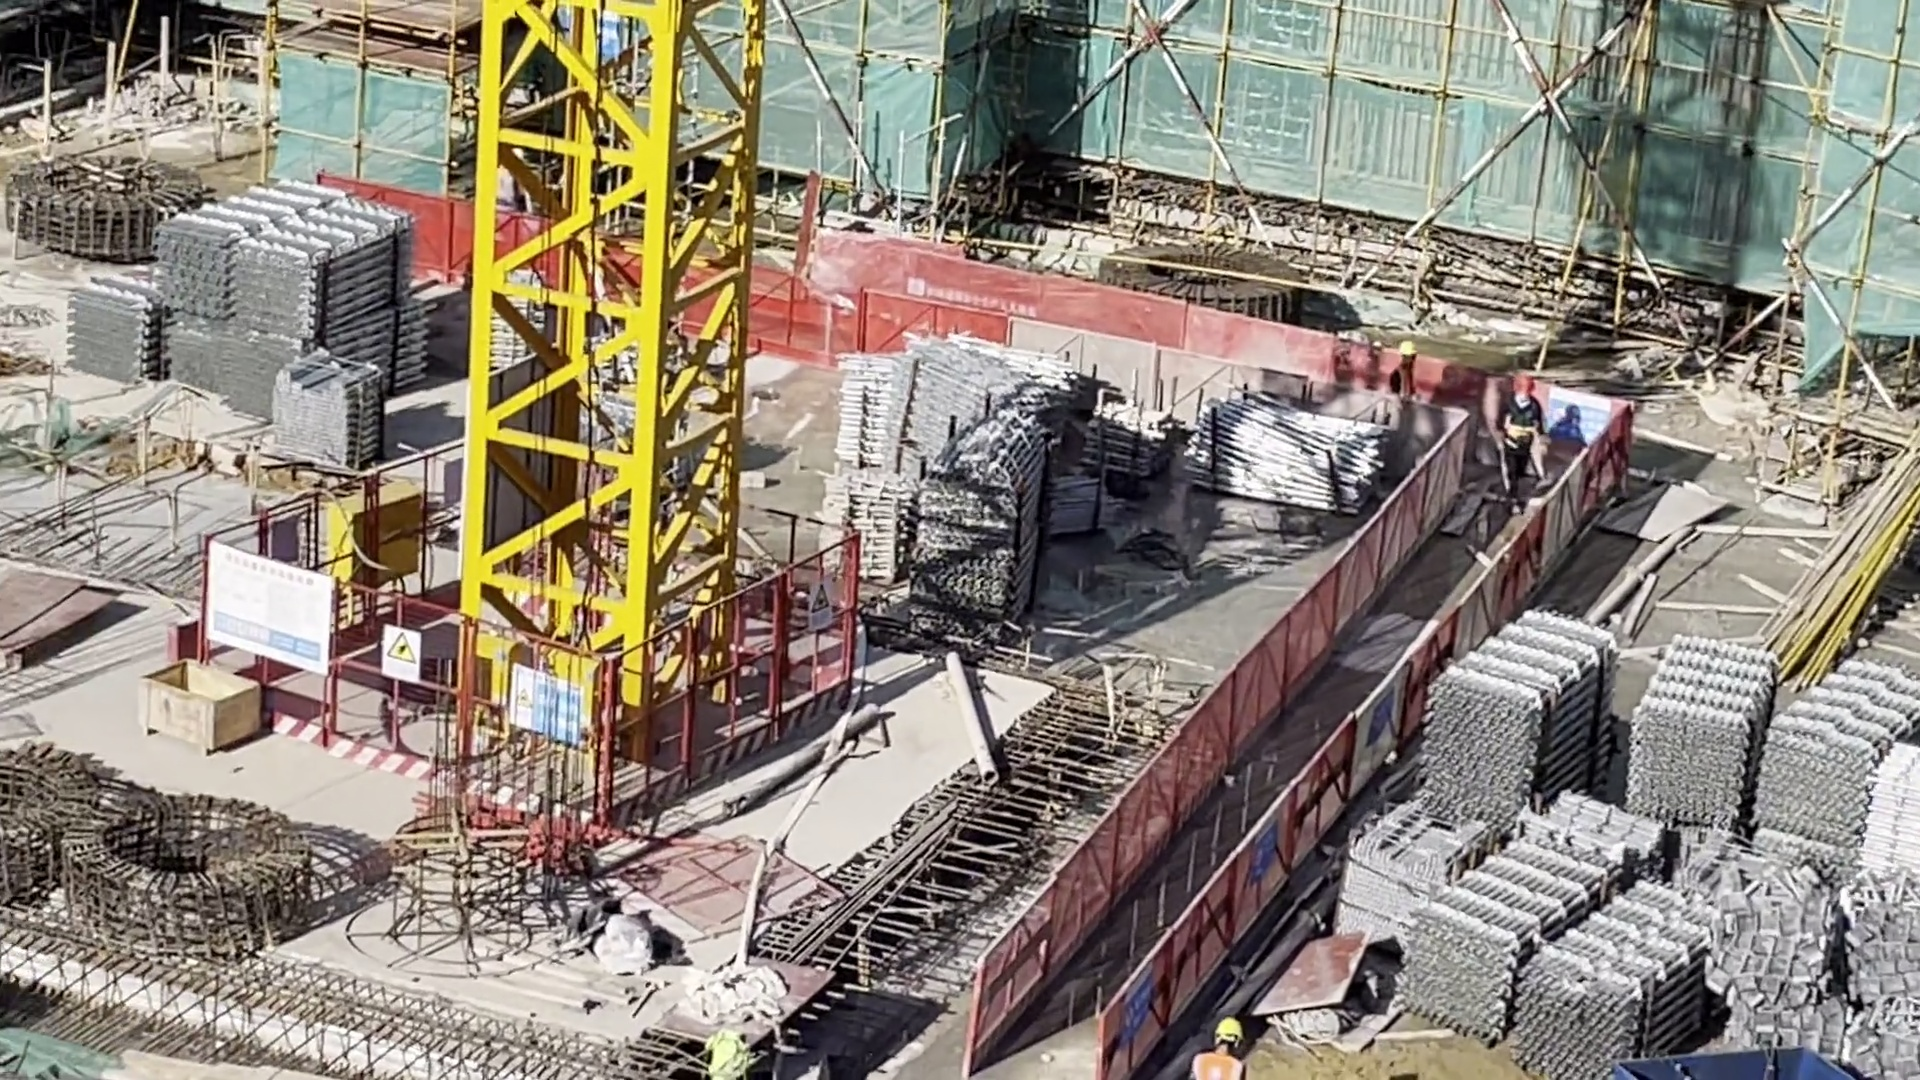board: (1, 572, 94, 659)
ebox: (325, 485, 420, 592)
fence: (981, 426, 1631, 1080), (762, 243, 1374, 406)
helmet: (1215, 1018, 1240, 1039), (1397, 338, 1415, 356)
hopper: (1621, 1047, 1853, 1080)
person: (1497, 374, 1540, 516), (1186, 1019, 1244, 1080), (1389, 337, 1419, 404)
scaffold: (164, 182, 431, 402), (1429, 618, 1613, 822), (1525, 884, 1711, 1080), (1415, 849, 1620, 1027), (1763, 649, 1920, 842), (846, 334, 1061, 460), (1633, 635, 1775, 819), (921, 416, 1038, 619), (1192, 395, 1378, 508), (273, 360, 389, 466), (63, 269, 169, 379), (819, 473, 912, 591), (1088, 400, 1169, 487)
slogan: (509, 669, 582, 747), (1548, 388, 1613, 443), (1124, 969, 1152, 1039), (382, 626, 420, 681), (1252, 816, 1278, 880), (806, 581, 836, 627)
vest: (1193, 1057, 1246, 1080), (1396, 365, 1416, 410)
